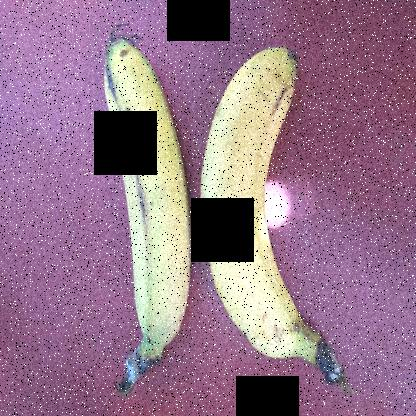freshripe: (191, 34, 321, 400)
ripe: (75, 22, 192, 415)
